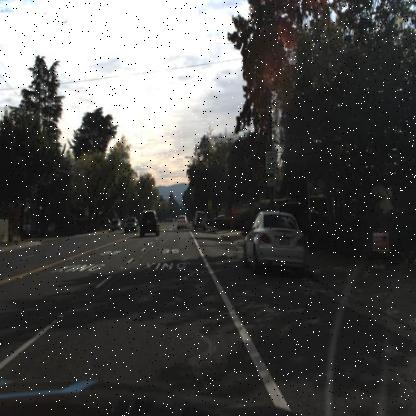car: (243, 210, 307, 278), (286, 201, 324, 235), (136, 205, 162, 237), (138, 205, 162, 239), (194, 209, 207, 230), (124, 216, 138, 235), (176, 214, 188, 230)
